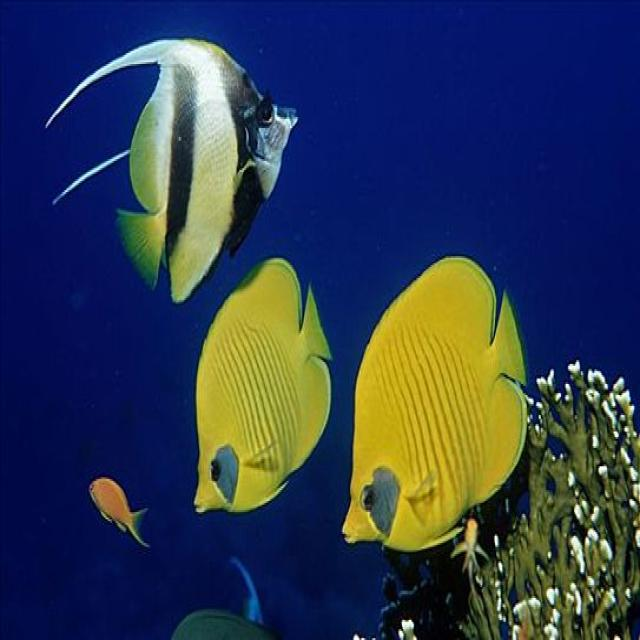ButterflyFish: (341, 256, 529, 552), (138, 47, 298, 290), (193, 259, 332, 531)
